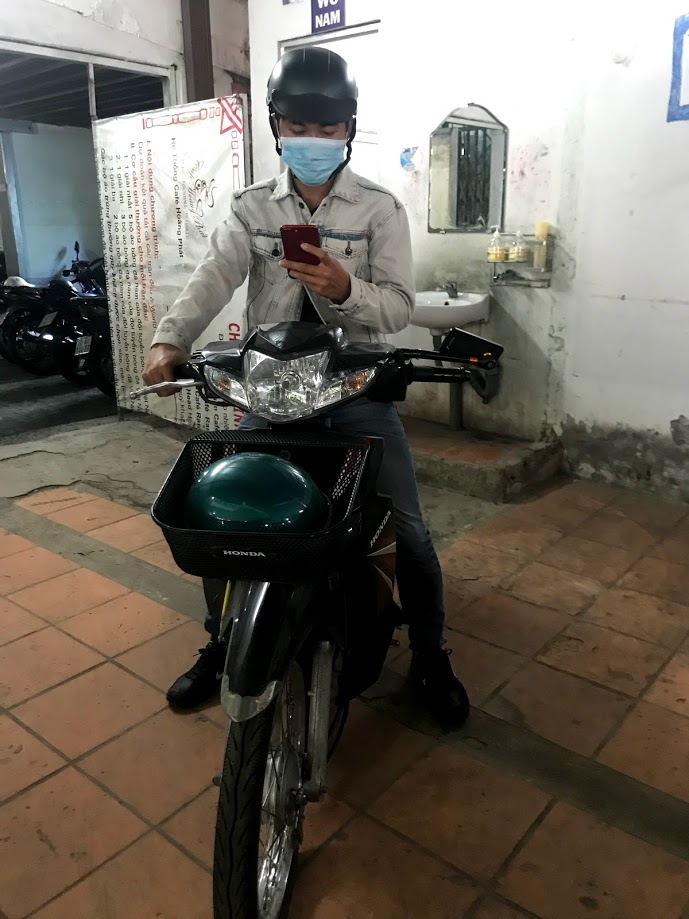dieu khien xe may: (159, 41, 404, 634)
su dung dien thoai: (261, 44, 363, 313)
